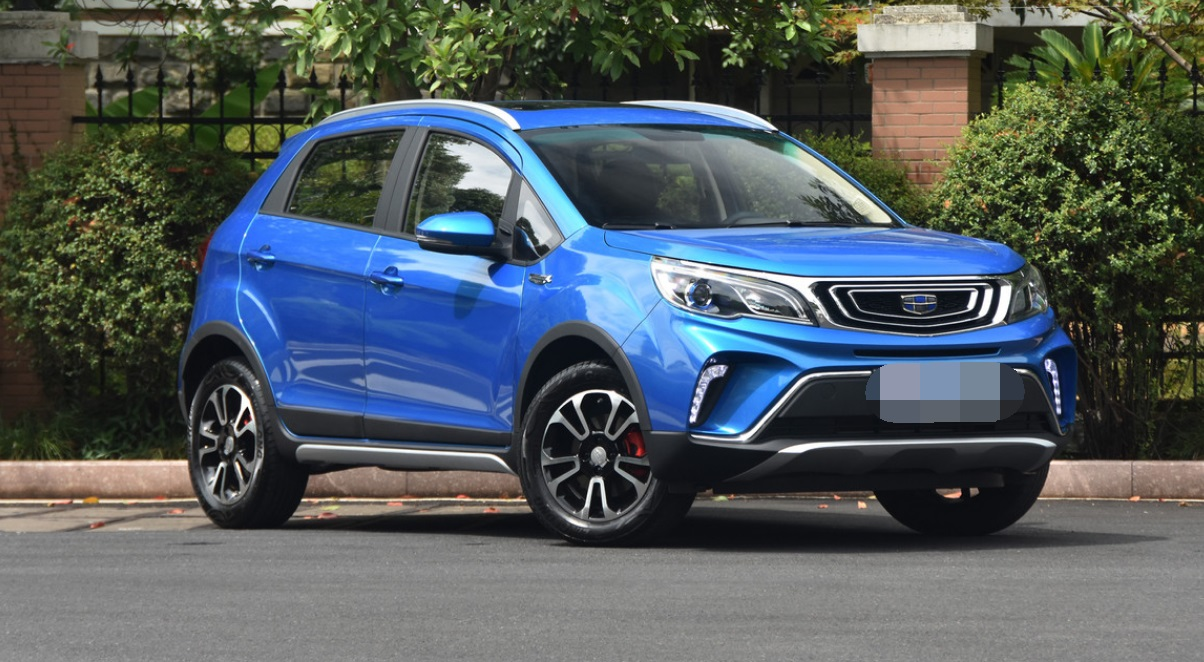SUV: (174, 99, 1077, 552)
